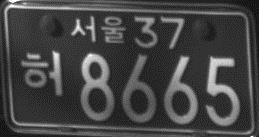3: (132, 14, 159, 48)
5: (202, 54, 242, 128)
6: (162, 52, 199, 125), (122, 54, 157, 126)
7: (159, 14, 187, 49)
8: (79, 52, 115, 123)
서울_O: (69, 13, 126, 47)
허: (21, 47, 64, 96)
